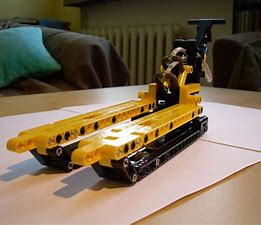Pallet Jack: (6, 15, 228, 186)
